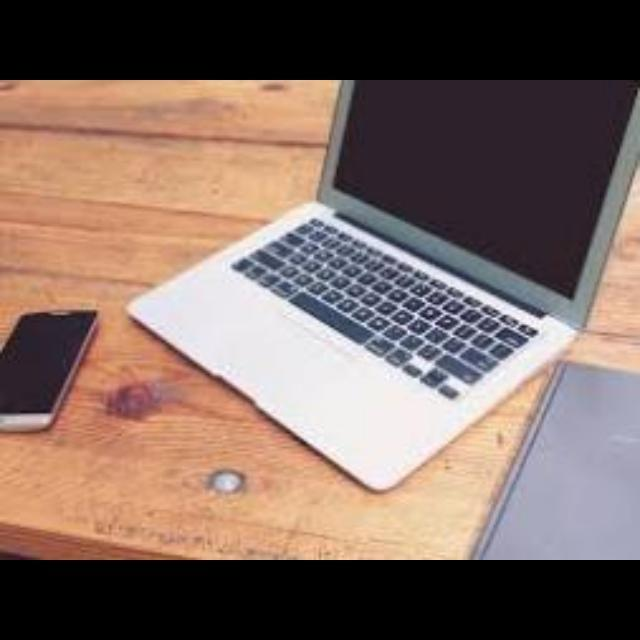phone: (0, 259, 115, 451), (1, 309, 103, 425)
